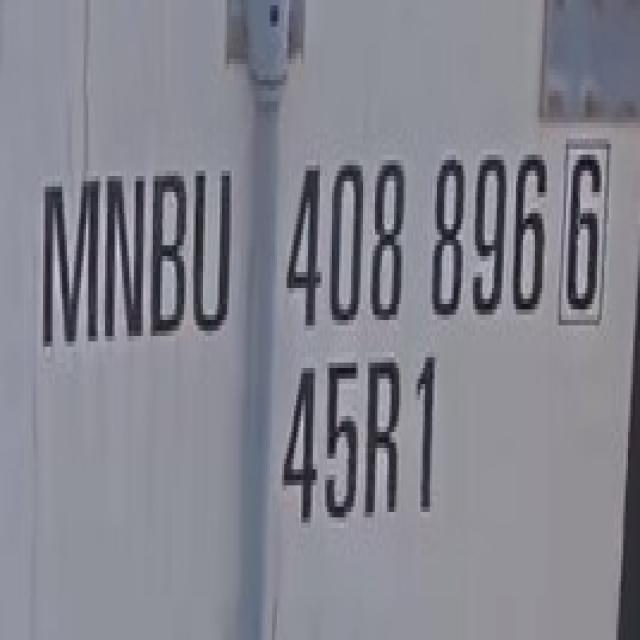dv: (558, 107, 612, 336)
owner: (35, 149, 238, 364)
serial: (285, 115, 550, 339)
size: (287, 344, 446, 550)
